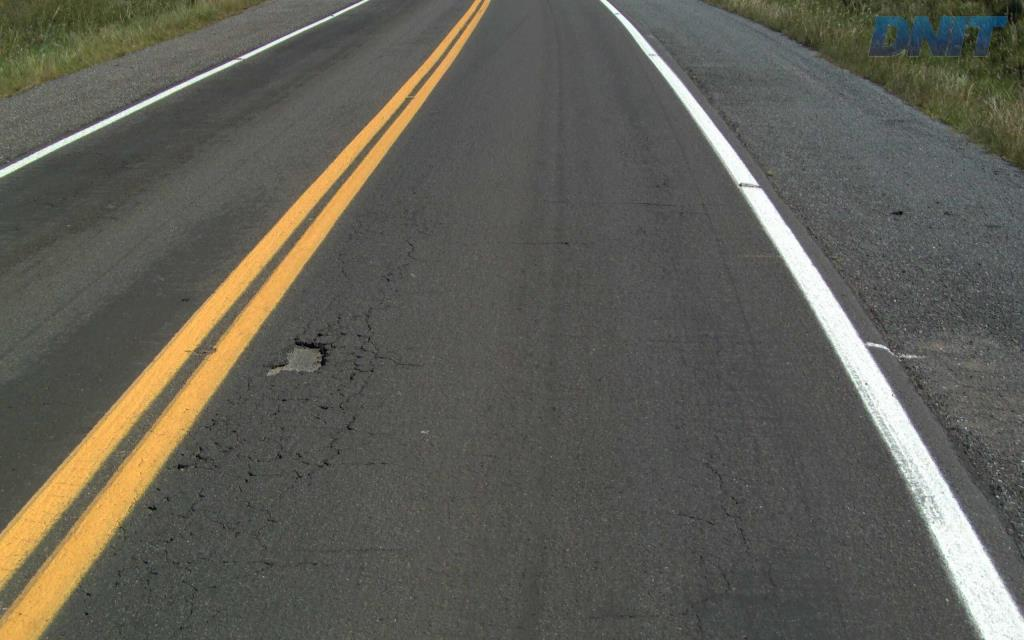pothole: (260, 332, 329, 375)
